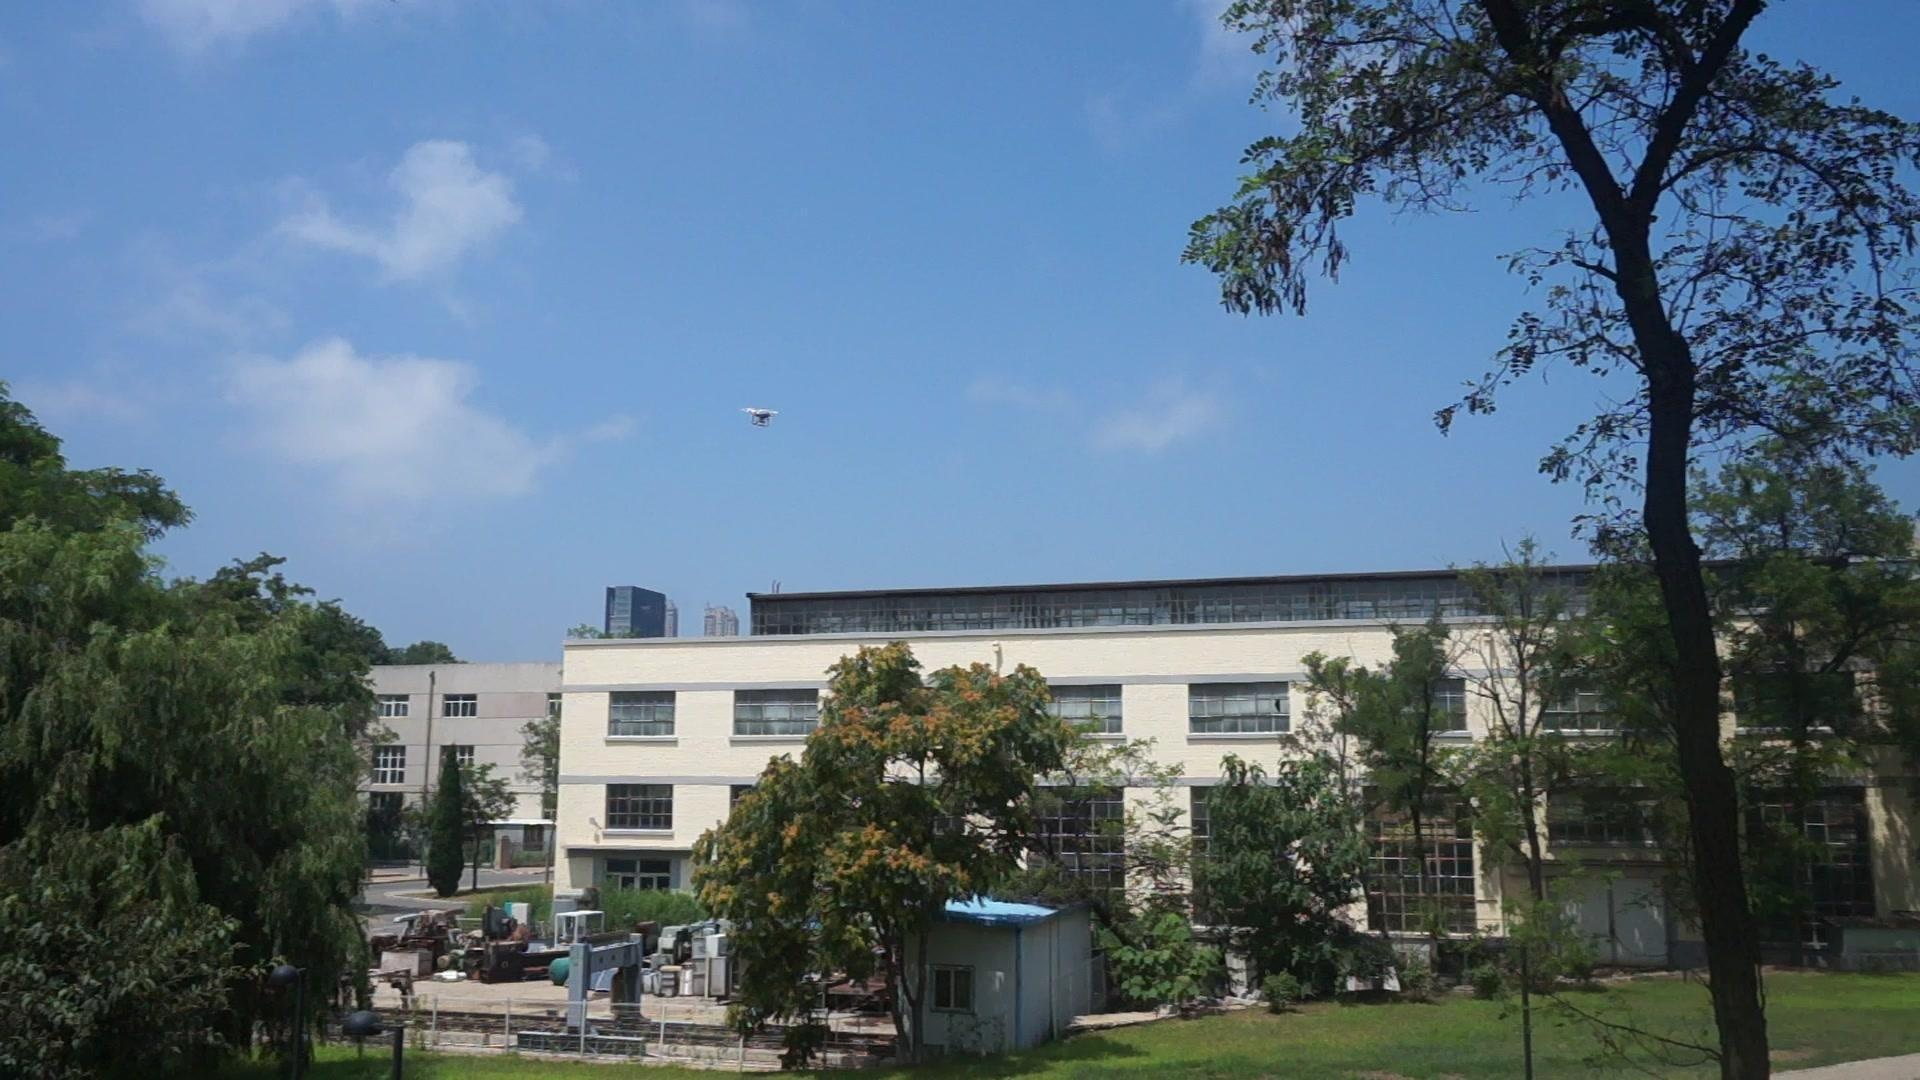UAV: (741, 409, 782, 429)
